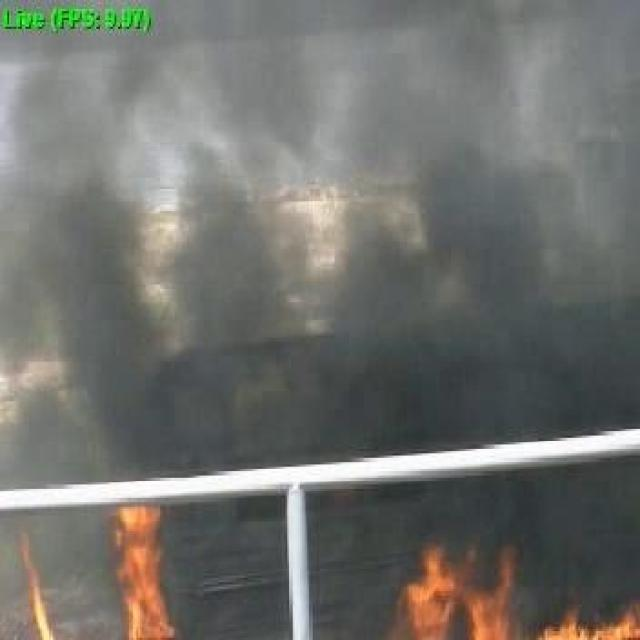Fire: (5, 490, 182, 636), (390, 530, 636, 634)
Smoke: (0, 0, 640, 500)
